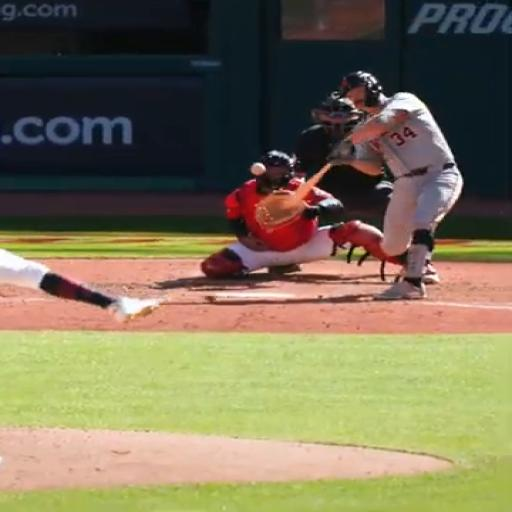bat: (291, 163, 332, 202)
